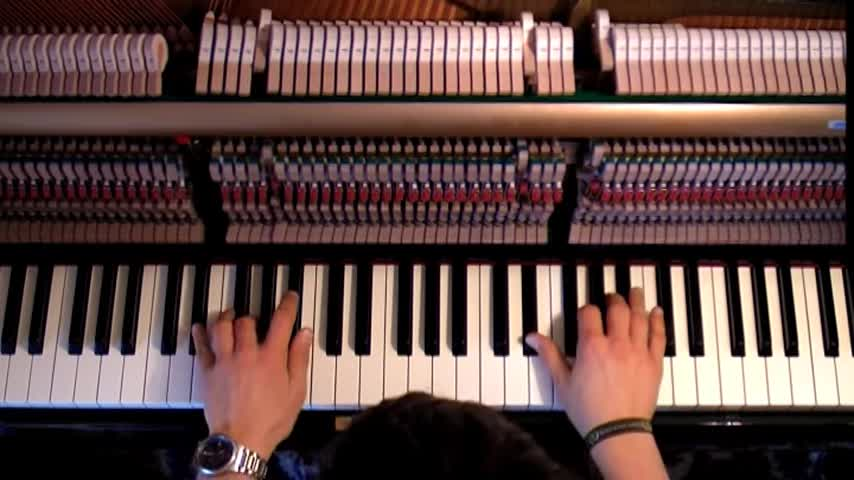left: (190, 286, 312, 443)
right: (523, 286, 666, 426)
